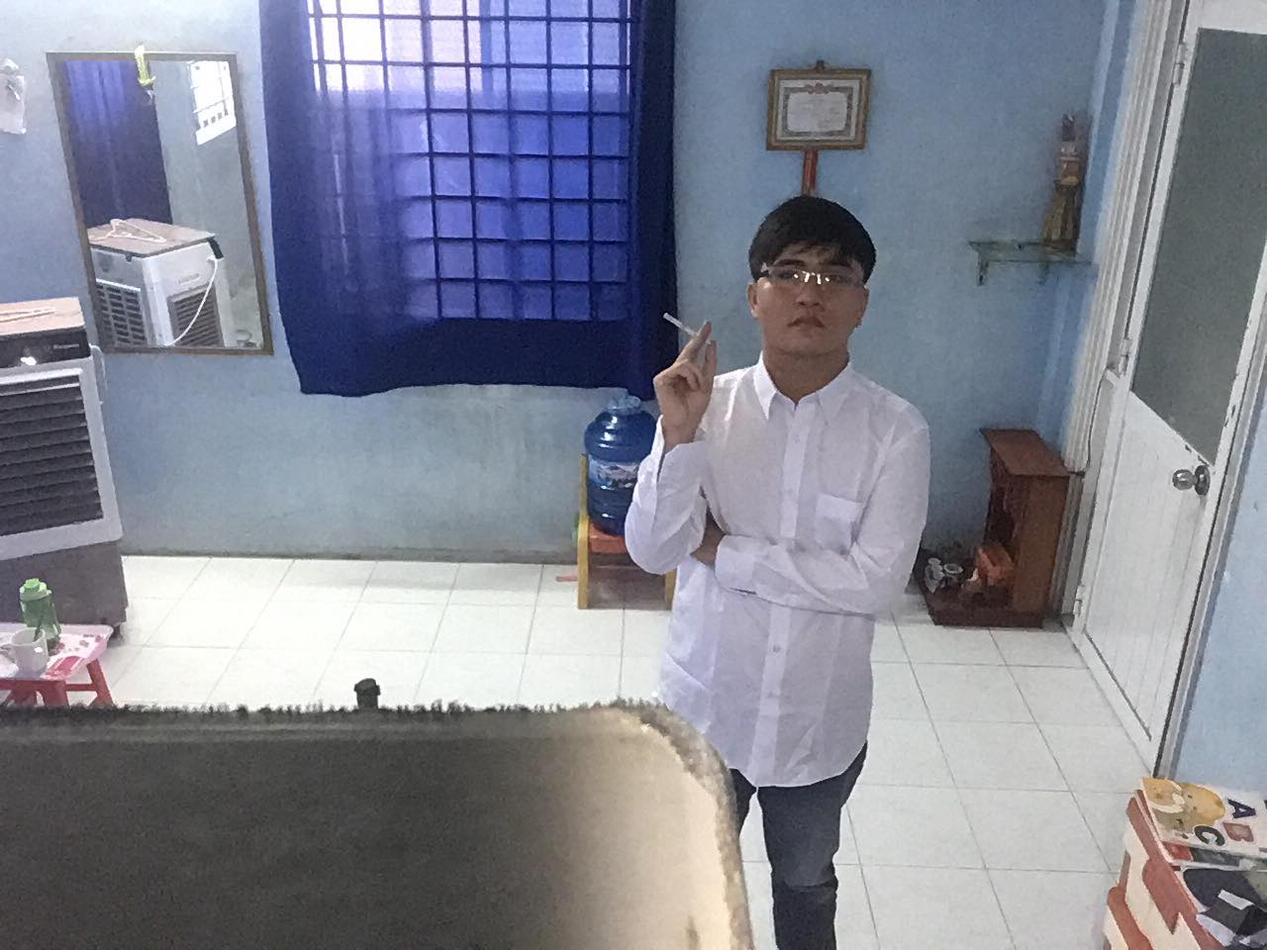cigarette: (656, 299, 705, 340)
person: (612, 180, 959, 820)
